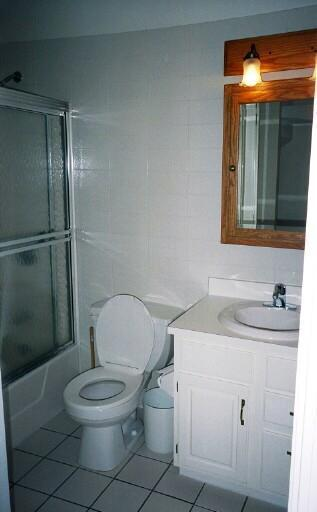Bote de Basura: (145, 386, 179, 454)
Ducha: (6, 95, 80, 376)
Lavamanos: (214, 275, 298, 348)
Sanitario: (71, 293, 174, 467)
